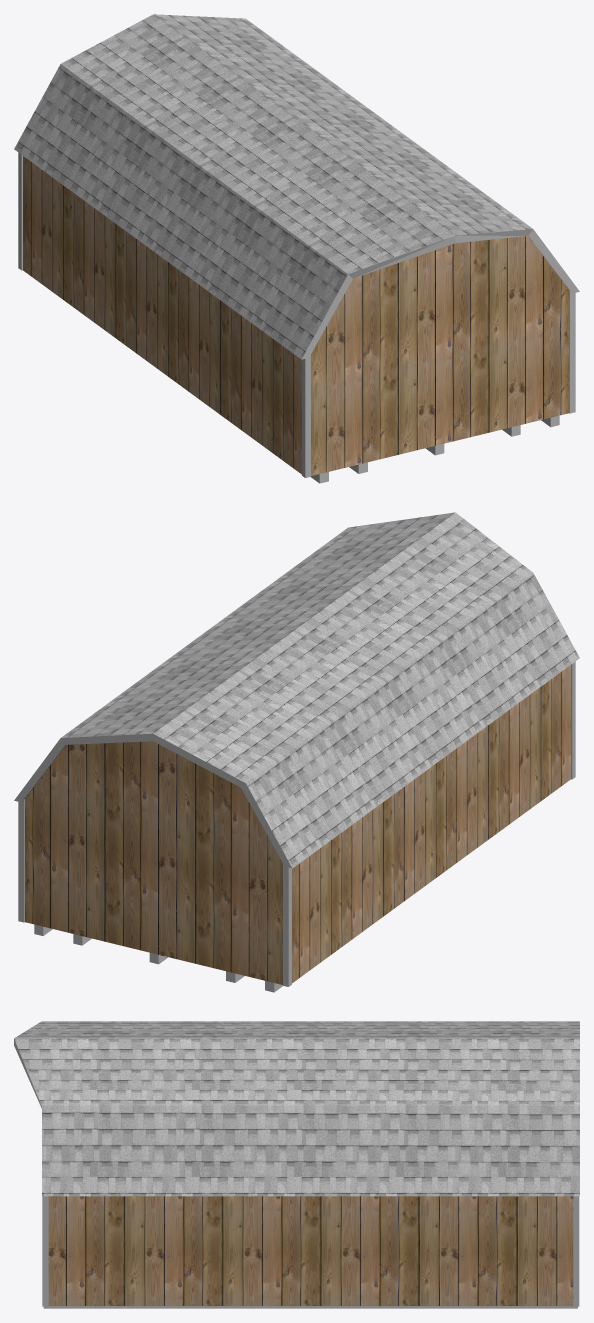
File: Mini Barn Sheds_10x18.obj
3 renders of one model, top to bottom at view 1: azimuth 30°, elevation 25°; view 2: azimuth 150°, elevation 25°; view 3: azimuth 270°, elevation 25°, orthographic. The views are drawn at different scales.
Parts seen in each view (by area): view 1: Roof, Shed, Sides, Trim, Floor; view 2: Roof, Shed, Sides, Trim, Floor; view 3: Roof, Shed, Floor, Trim.
Boxes of the visible parts, bbox=[...] form: Roof: bbox=[14, 14, 532, 359]; Shed: bbox=[23, 156, 569, 475]; Sides: bbox=[301, 229, 579, 359]; Trim: bbox=[18, 152, 575, 477]; Floor: bbox=[311, 415, 559, 483]; Roof: bbox=[61, 512, 579, 868]; Shed: bbox=[22, 665, 570, 984]; Sides: bbox=[14, 733, 292, 868]; Trim: bbox=[18, 661, 575, 986]; Floor: bbox=[34, 924, 282, 992]; Roof: bbox=[14, 1021, 579, 1196]; Shed: bbox=[48, 1196, 573, 1305]; Floor: bbox=[43, 1306, 577, 1308]; Trim: bbox=[42, 1196, 579, 1306].
Size of the model in its own units: 3.09 by 2.44 by 5.81.
